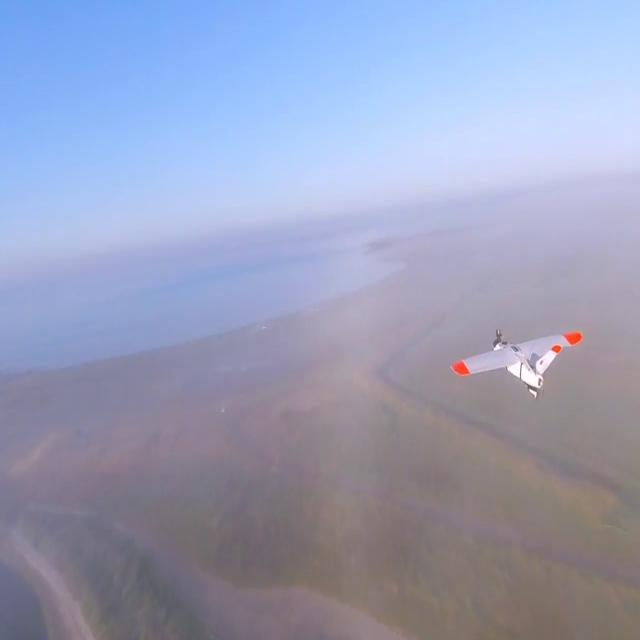iha: (452, 364, 580, 366)
